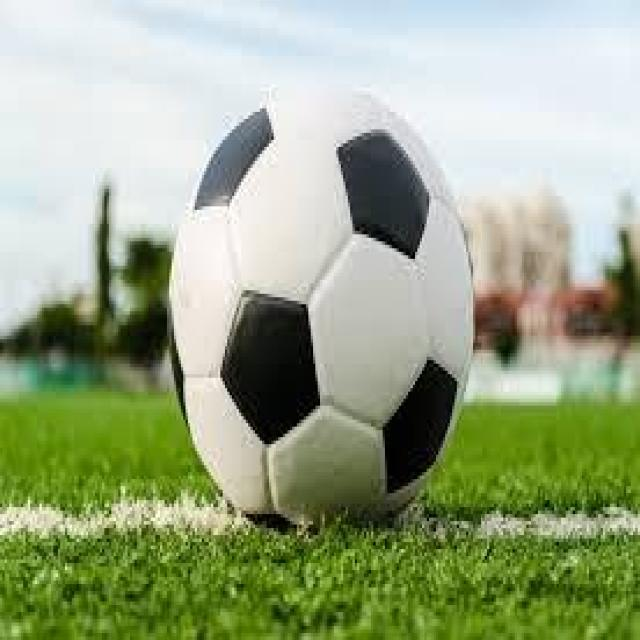Soccer Ball: (170, 91, 476, 528)
